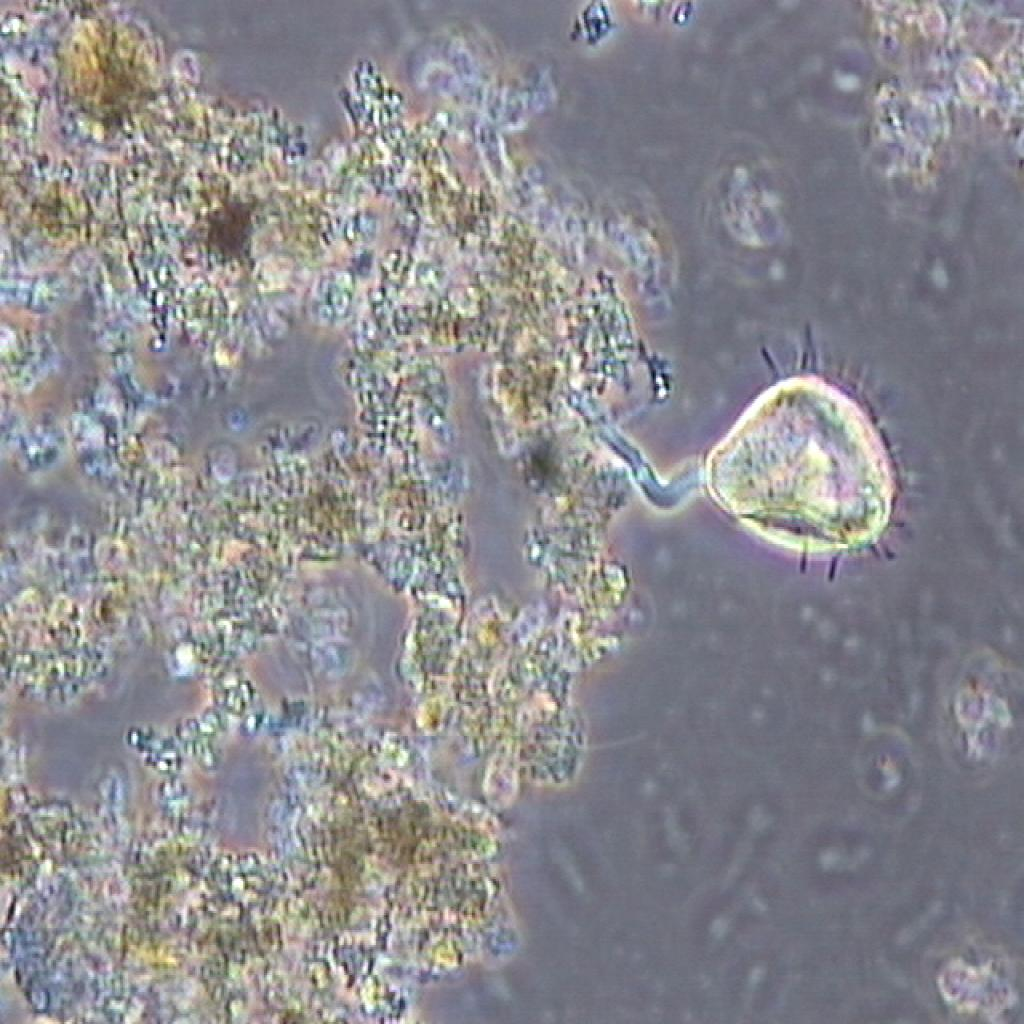Suctorida: (589, 323, 942, 586)
